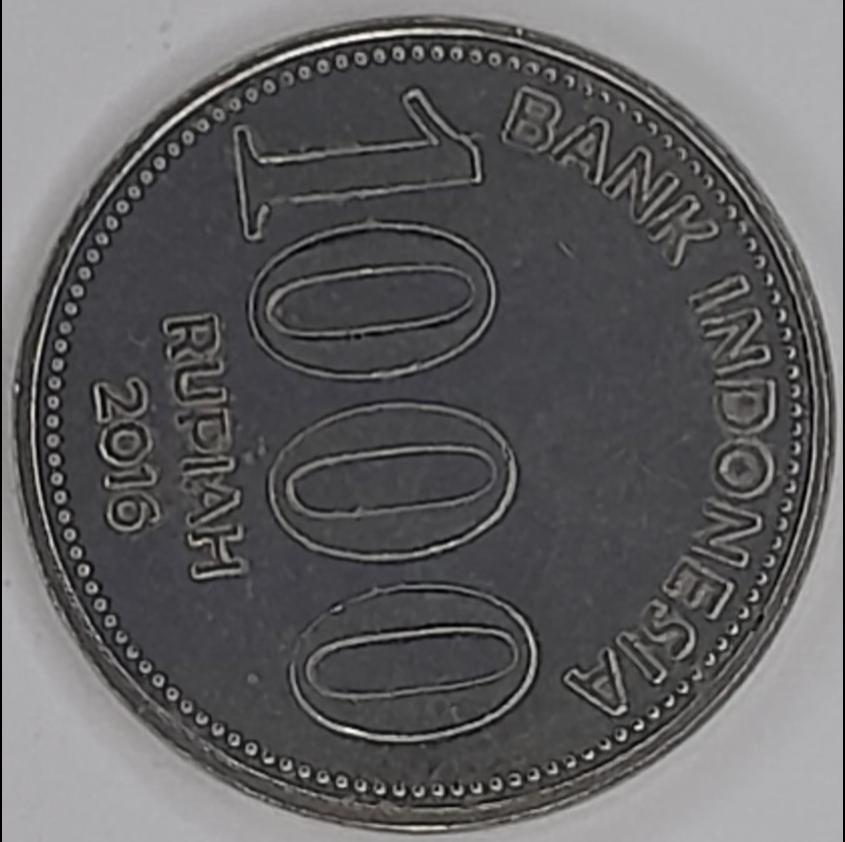coin_1000_e2016: (14, 17, 834, 842)
